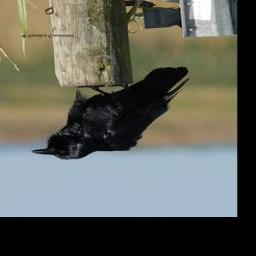Crow: (30, 65, 191, 160)
